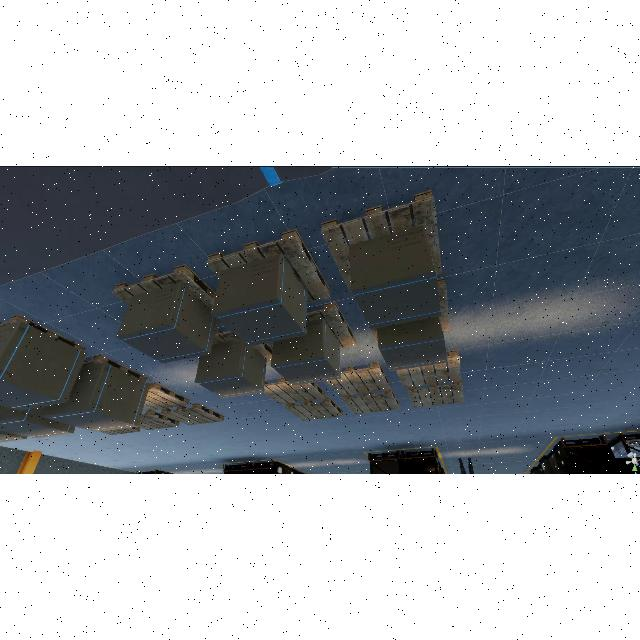wooden_pallet: (319, 190, 444, 295), (206, 228, 332, 305), (110, 265, 220, 327), (1, 314, 87, 354), (394, 351, 462, 392), (305, 303, 357, 349), (325, 362, 390, 397), (80, 353, 148, 384), (407, 379, 465, 409), (342, 388, 401, 417), (161, 402, 226, 427), (264, 378, 326, 404), (285, 396, 344, 422), (144, 382, 190, 411), (136, 409, 181, 431)
